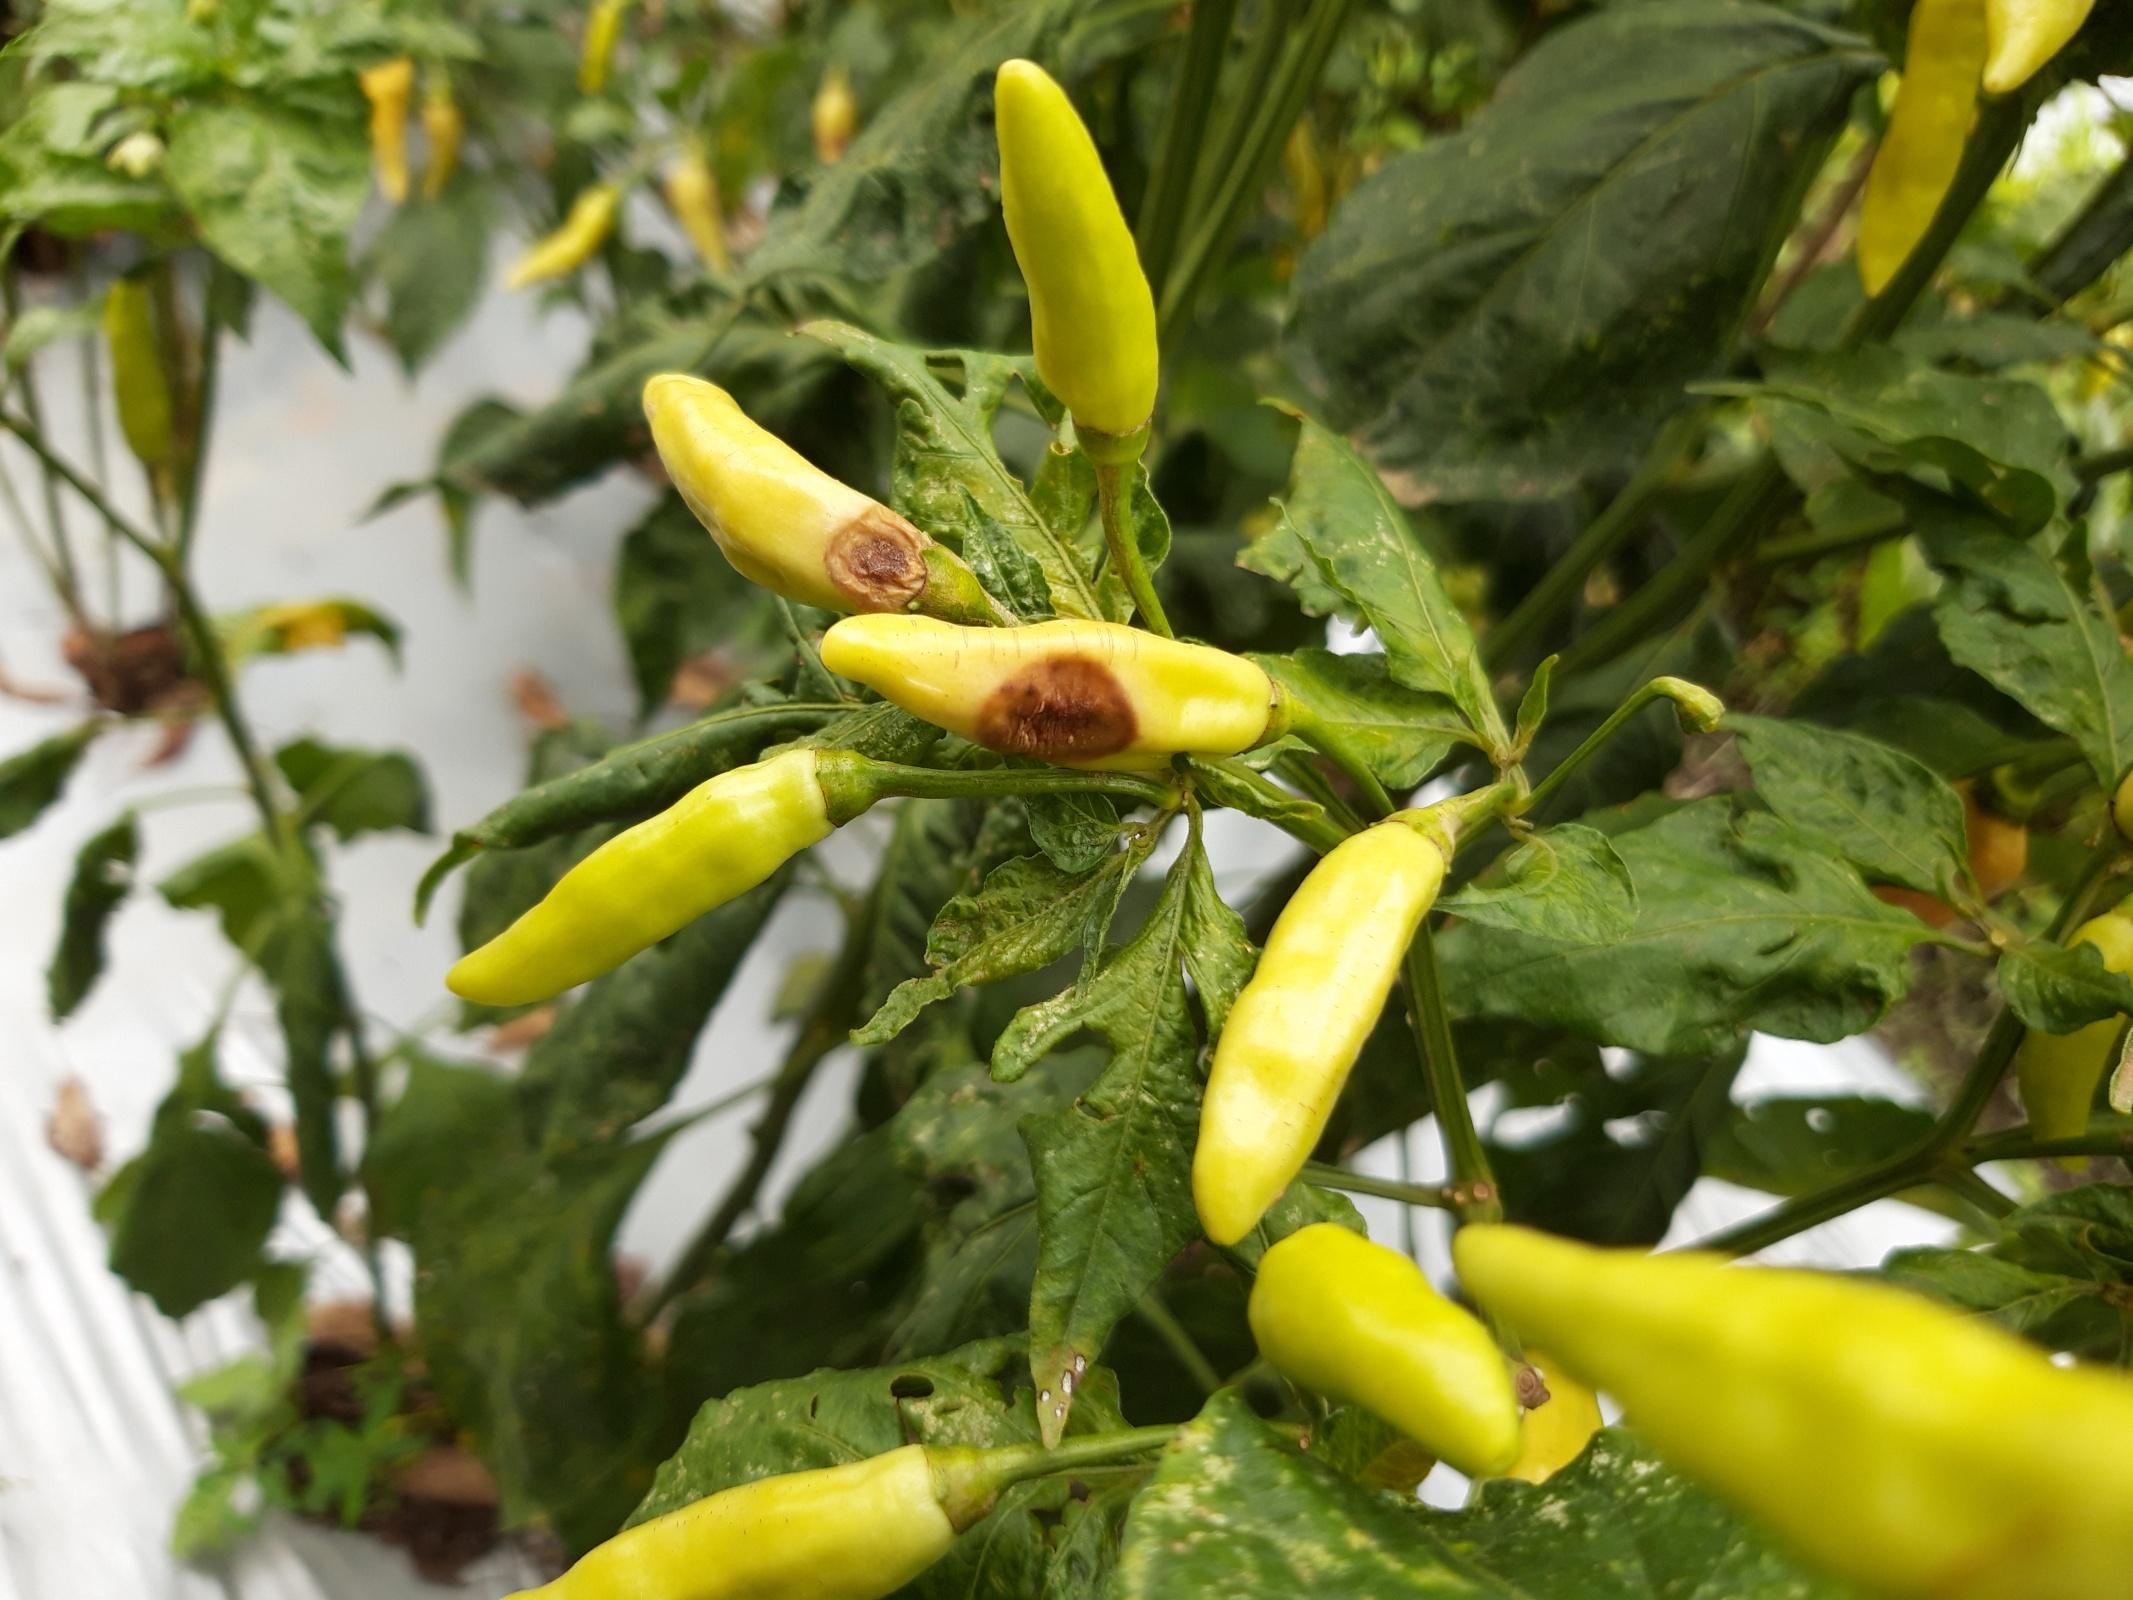cabai_normal: (1456, 1220, 2133, 1600), (1192, 807, 1454, 1244), (447, 748, 864, 1010), (491, 1450, 993, 1600), (1254, 1224, 1516, 1474), (995, 59, 1155, 464)
lalat_buah: (642, 371, 982, 617), (815, 612, 1282, 758)
